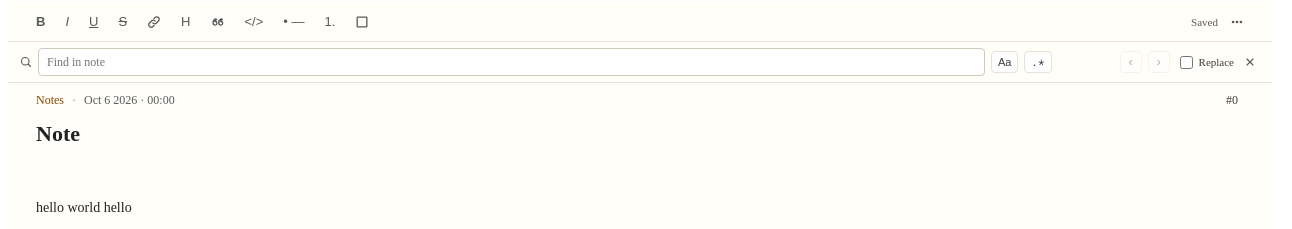
find in note keeps focus in the find bar › Escape closes the bar and selects the current match in the note
In the field with class "find-input": (511, 62) [38, 48, 985, 76], type "hel"
Wait 400 ms
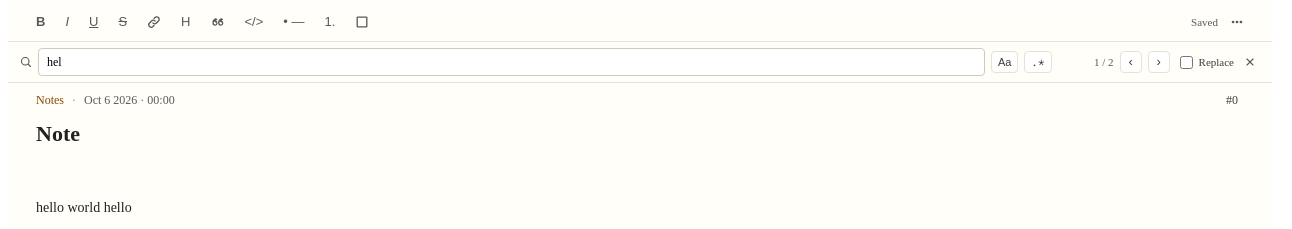
Press Enter in the field with class "find-input", box [38, 48, 985, 76]
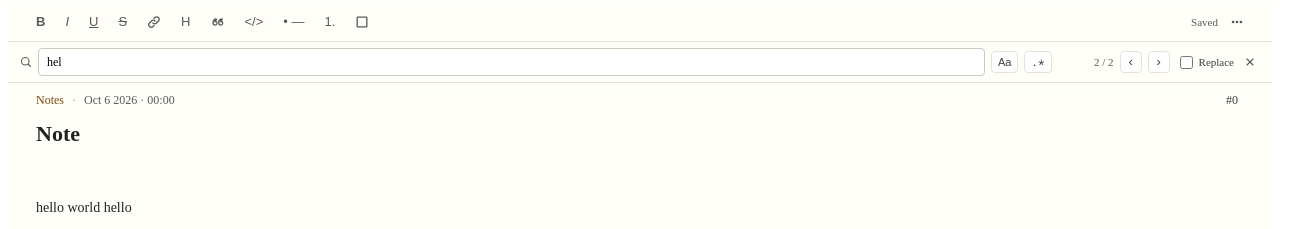
Press Escape in the field with class "find-input", box [38, 48, 985, 76]
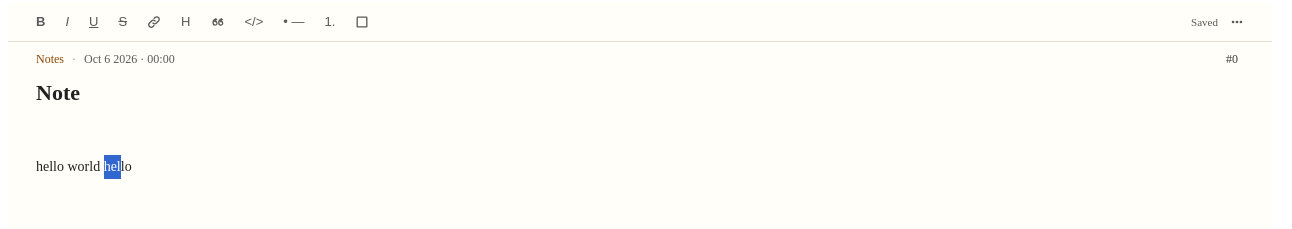
Now the element with class "find-bar" is gone
